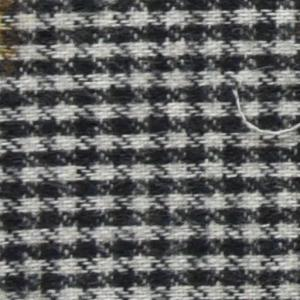Oil Stain: (1, 1, 29, 81)
